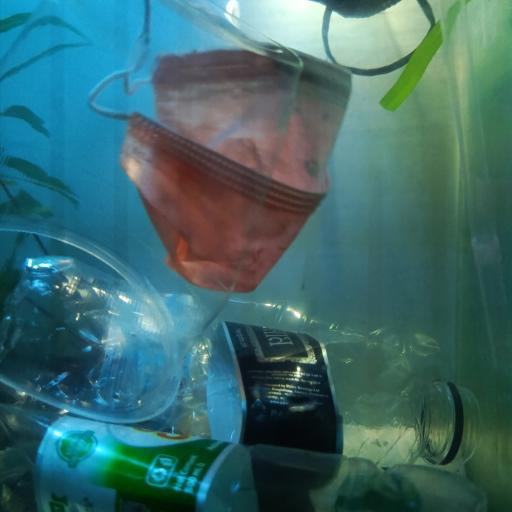mask: (87, 44, 352, 294)
plastic_bottle: (2, 255, 483, 469), (49, 278, 449, 433), (0, 400, 488, 512)
plastic_cup: (0, 0, 303, 423)
